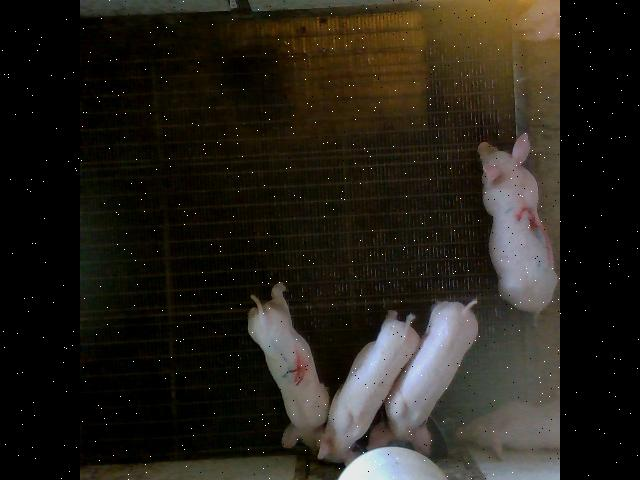pig-3: (478, 132, 557, 312)
pig-4: (248, 282, 329, 451)
